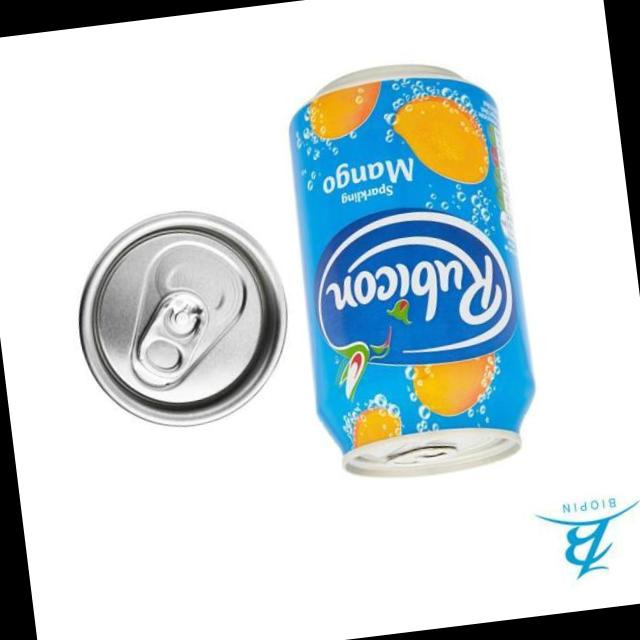Kaleng: (275, 52, 546, 490), (61, 188, 300, 448)
